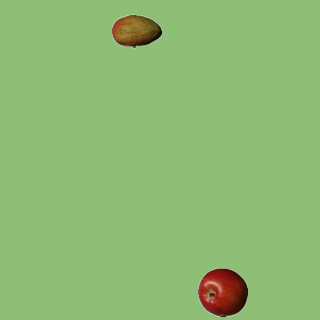Apple Braeburn: (197, 267, 247, 317)
Papaya: (111, 6, 161, 56)
